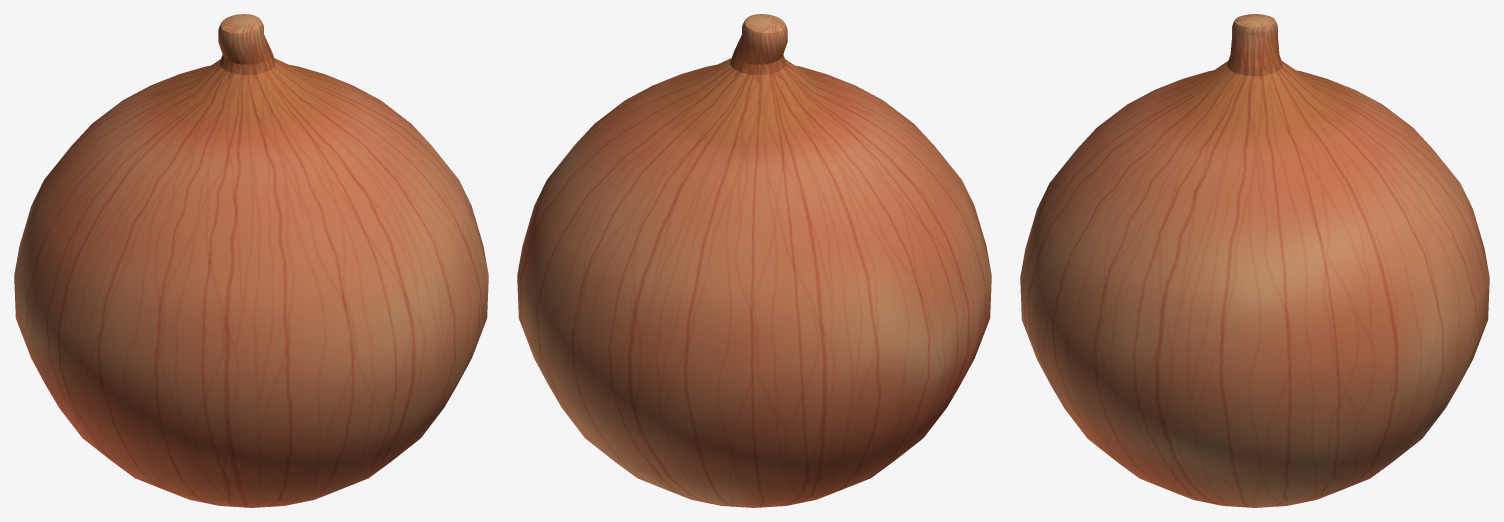
File: Mesh_Kitchen_Onion.fbx
3 views of the same model, side by side, from view 1: azimuth 30°, elevation 25°; view 2: azimuth 150°, elevation 25°; view 3: azimuth 270°, elevation 25° (orthographic).
Visible parts, largest first — view 1: Mesh_Onion; view 2: Mesh_Onion; view 3: Mesh_Onion.
Boxes of the visible parts, <box> form: Mesh_Onion: <box>14,14,488,507</box>; Mesh_Onion: <box>517,14,991,507</box>; Mesh_Onion: <box>1020,14,1489,507</box>.
Size of the model in its own units: 136 by 148 by 136.
Materials: 1 (1 with a texture image).
